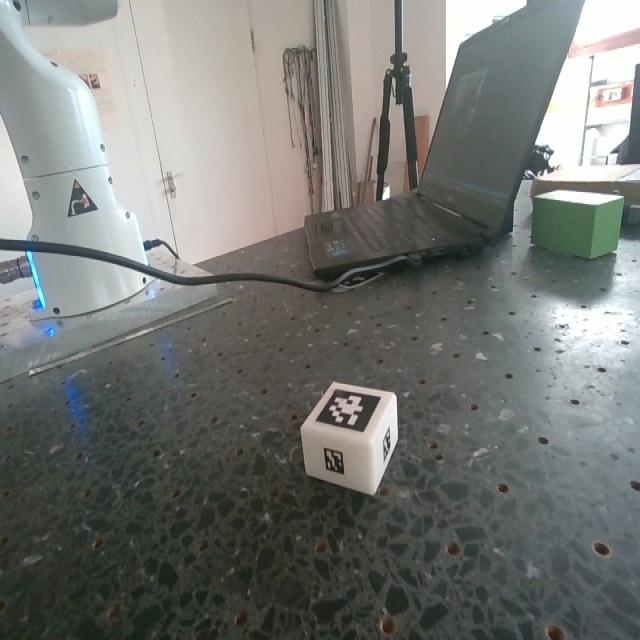Cube: (300, 378, 404, 493)
